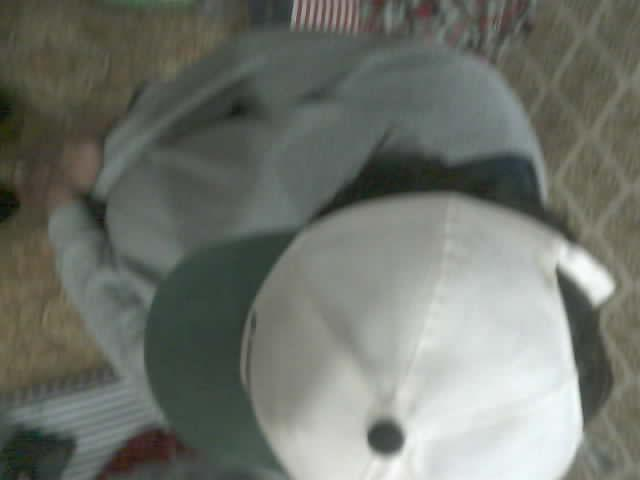cap: (145, 190, 616, 479)
